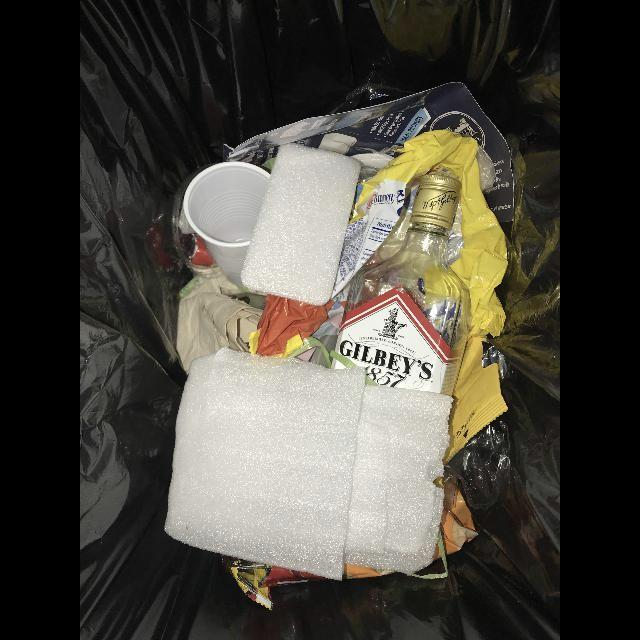food_wrapper: (249, 131, 509, 465)
glass_bottle: (336, 174, 470, 396)
paper: (176, 276, 263, 374)
plastic_container: (183, 162, 271, 286)
